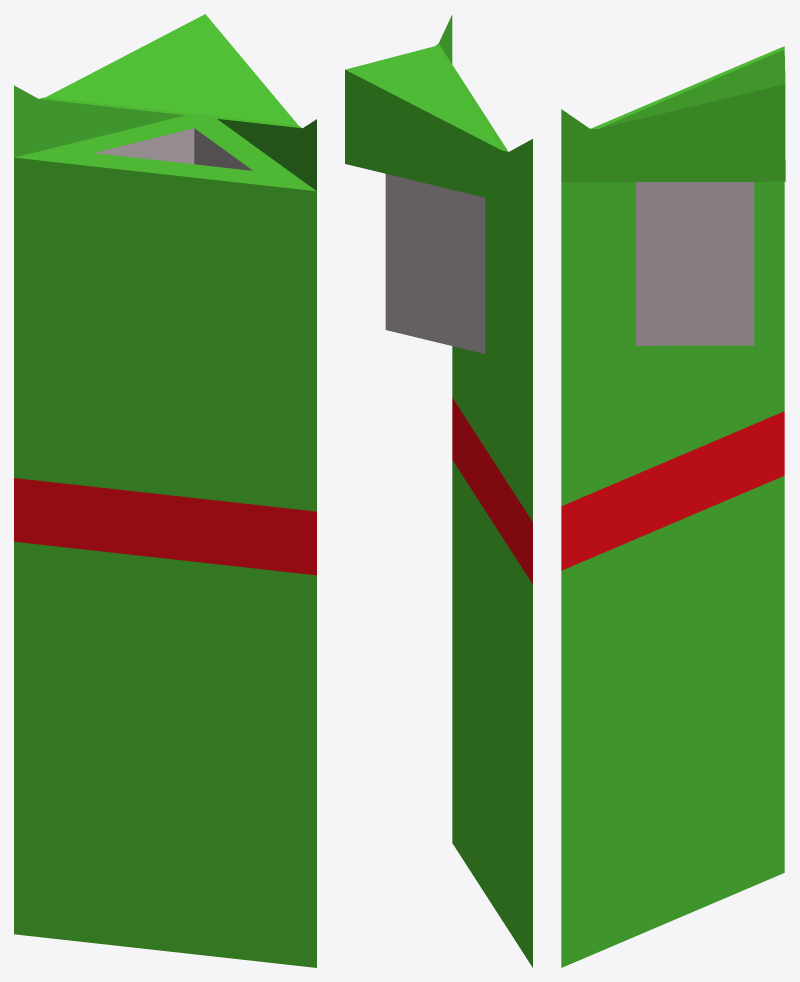
Rendered from MainColInside.fbx.
3 renders of one model, left to right at view 1: azimuth 30°, elevation 25°; view 2: azimuth 150°, elevation 25°; view 3: azimuth 270°, elevation 25°, orthographic. The views are drawn at different scales.
Visible parts, largest first — view 1: MainColInside; view 2: MainColInside; view 3: MainColInside.
Part boxes in pixels (box(x1,y1,x2,y2)): MainColInside: box(14, 14, 316, 967); MainColInside: box(345, 15, 532, 967); MainColInside: box(561, 46, 785, 967).
Bounding box in the file's own units: 59.37 × 257 × 59.11.
